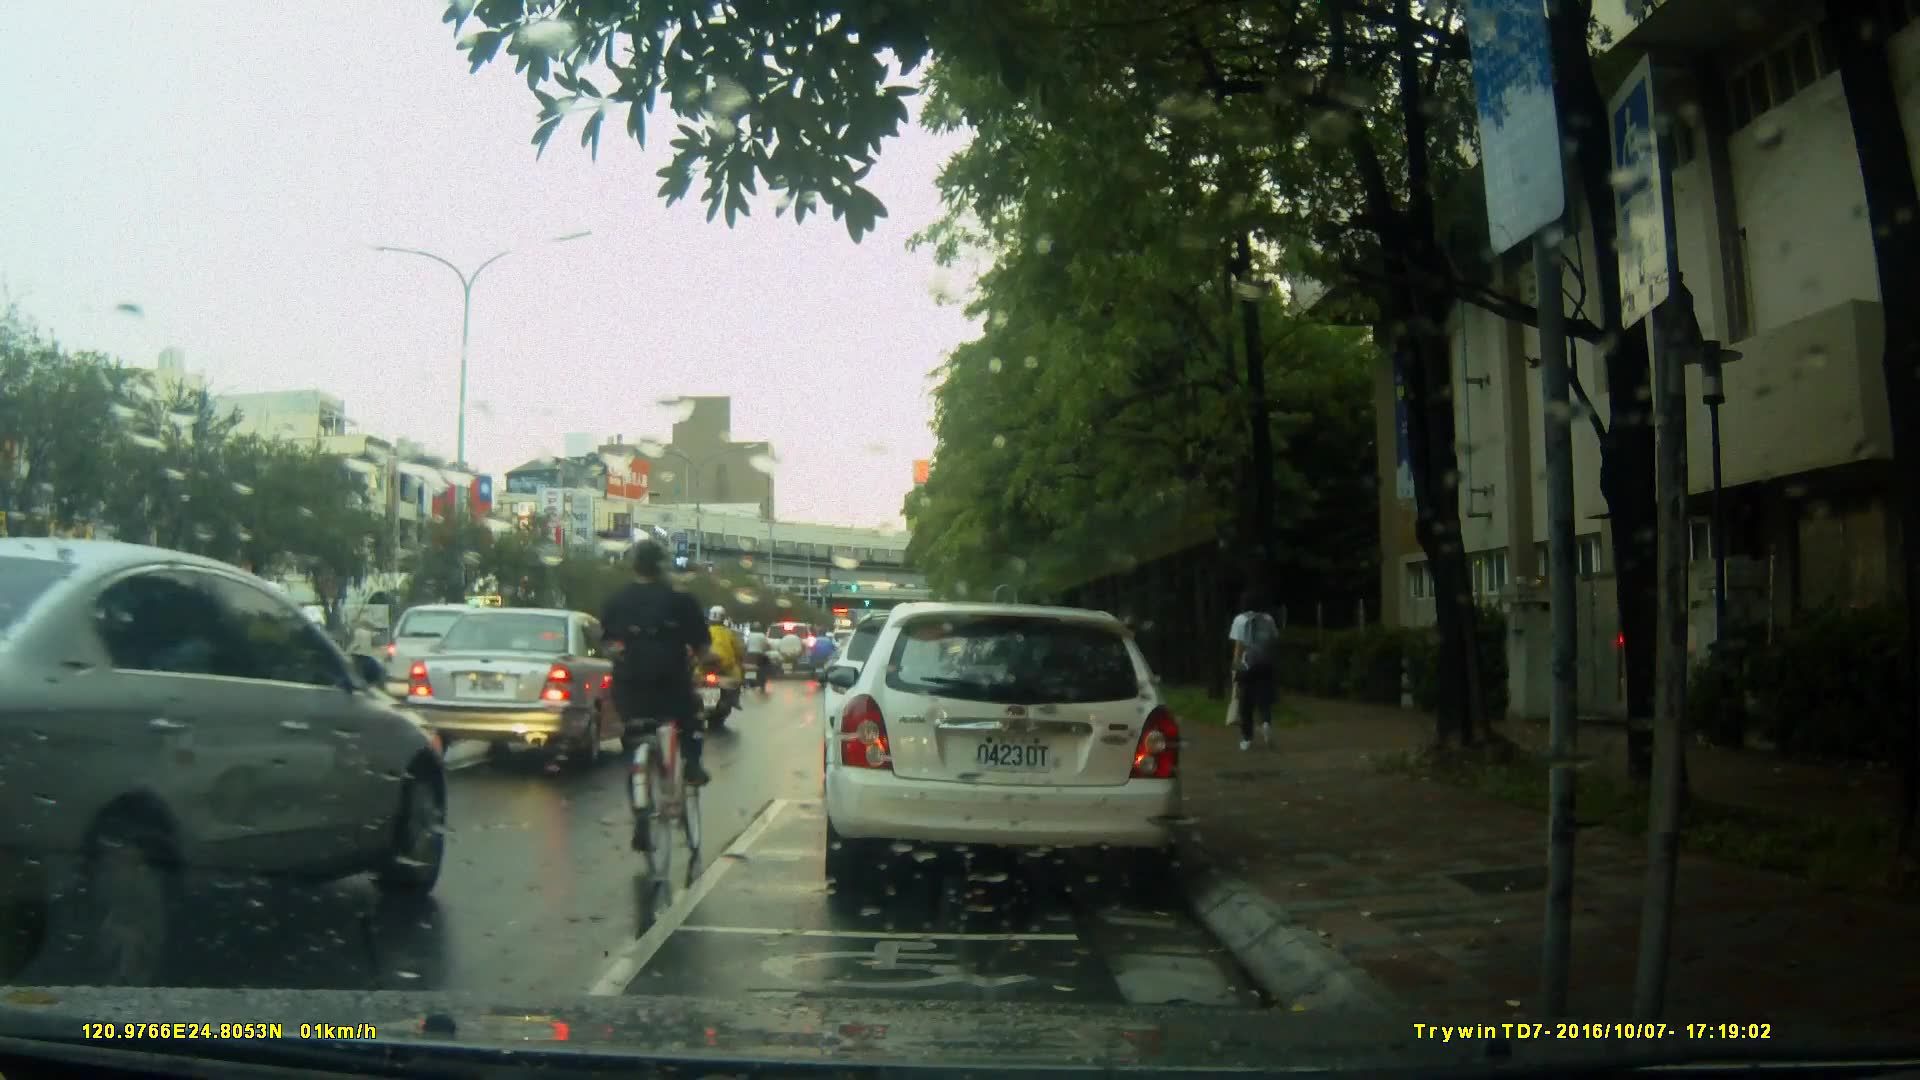pedestrian: (1228, 581, 1290, 755)
rider: (602, 528, 719, 890), (689, 600, 750, 739), (740, 618, 770, 701), (812, 621, 839, 696)
vehicle: (1, 535, 449, 985), (820, 602, 1188, 898), (402, 606, 651, 771), (379, 605, 562, 721)
